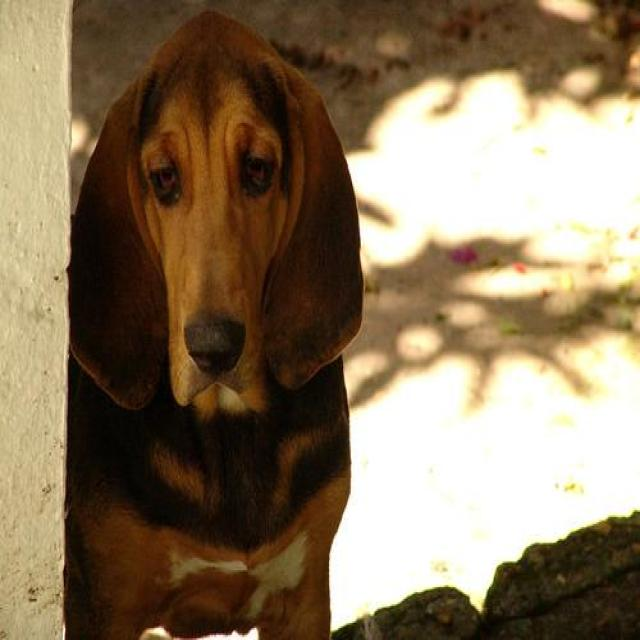bloodhound: (66, 11, 364, 638)
